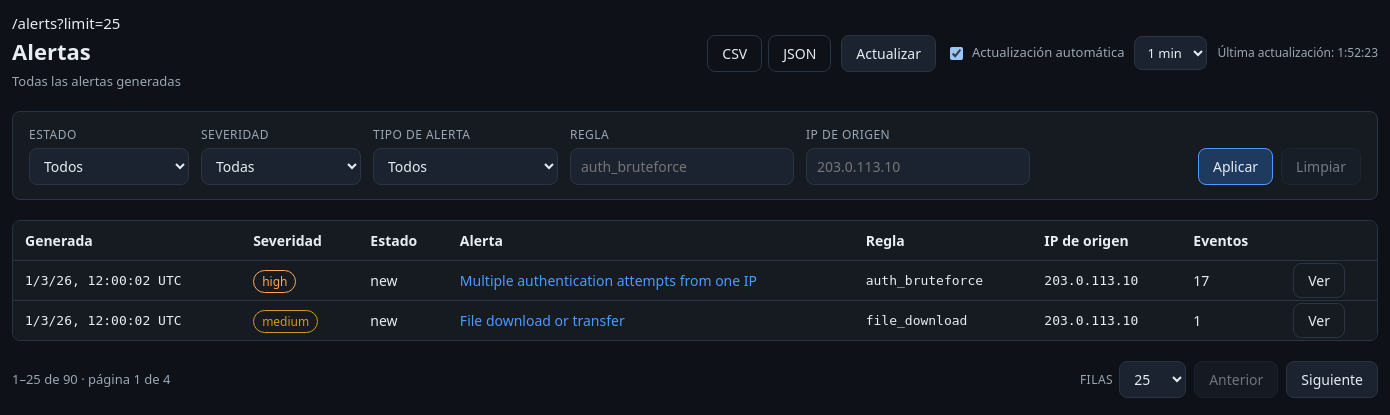
RF-13 consulta de alertas › navega entre páginas
Click the button "Siguiente" at (1332, 380), box top-left (1286, 361), bottom-right (1378, 398)
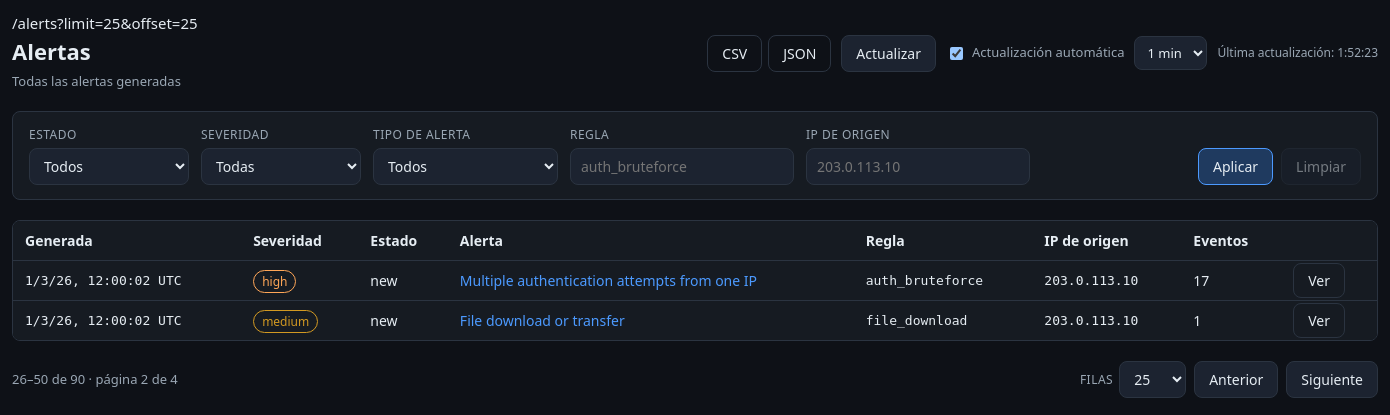
Check: the text with test id "location" shows "offset=25", box top-left (12, 13), bottom-right (198, 33)
